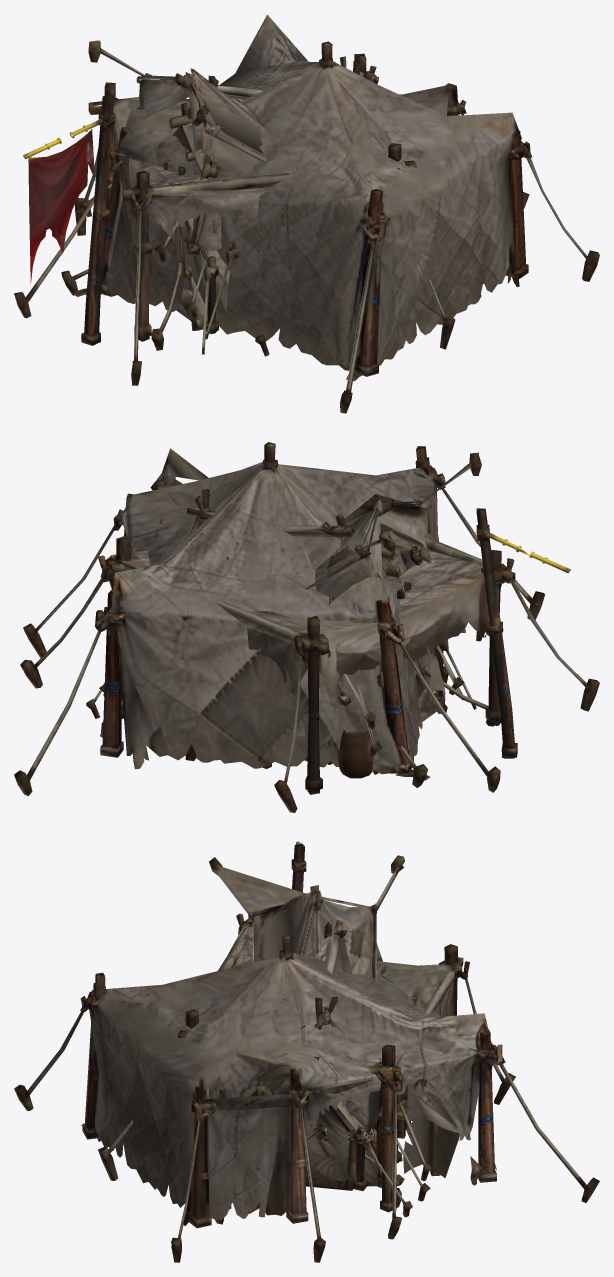
The model's file is kit-tents.glb.
3 renders of one model, top to bottom at view 1: azimuth 30°, elevation 25°; view 2: azimuth 150°, elevation 25°; view 3: azimuth 270°, elevation 25°, orthographic. The views are drawn at different scales.
Parts seen in each view (by area): view 1: tent_08_pavilion, tent_07_market_stall, tent_05_tattered, tent_04_sagging, tent_06_pup, tent_02_lean_to, tent_03_a_frame, tent_01_ridge; view 2: tent_08_pavilion, tent_07_market_stall, tent_05_tattered, tent_04_sagging, tent_03_a_frame, tent_06_pup, tent_02_lean_to; view 3: tent_08_pavilion, tent_07_market_stall, tent_05_tattered, tent_04_sagging, tent_06_pup, tent_03_a_frame, tent_01_ridge.
Part boxes in pixels (left/top/right/bottom): tent_08_pavilion: left=14, top=14, right=599, bottom=413; tent_07_market_stall: left=75, top=53, right=455, bottom=385; tent_05_tattered: left=88, top=40, right=265, bottom=172; tent_04_sagging: left=80, top=75, right=401, bottom=262; tent_06_pup: left=61, top=221, right=484, bottom=350; tent_02_lean_to: left=163, top=160, right=229, bottom=354; tent_03_a_frame: left=168, top=56, right=363, bottom=356; tent_01_ridge: left=185, top=150, right=238, bottom=339; tent_08_pavilion: left=14, top=442, right=570, bottom=795; tent_07_market_stall: left=20, top=529, right=599, bottom=812; tent_05_tattered: left=304, top=452, right=481, bottom=599; tent_04_sagging: left=86, top=514, right=482, bottom=729; tent_03_a_frame: left=99, top=489, right=464, bottom=757; tent_06_pup: left=103, top=658, right=493, bottom=787; tent_02_lean_to: left=377, top=581, right=476, bottom=709; tent_08_pavilion: left=14, top=841, right=599, bottom=1262; tent_07_market_stall: left=98, top=913, right=515, bottom=1239; tent_05_tattered: left=209, top=855, right=404, bottom=1207; tent_04_sagging: left=231, top=920, right=412, bottom=1217; tent_06_pup: left=215, top=1128, right=401, bottom=1224; tent_03_a_frame: left=255, top=996, right=432, bottom=1181; tent_01_ridge: left=249, top=1024, right=430, bottom=1201.
Bounding box in the file's own units: 7.8 × 3.59 × 8.08.
1 material, 1 textured.
